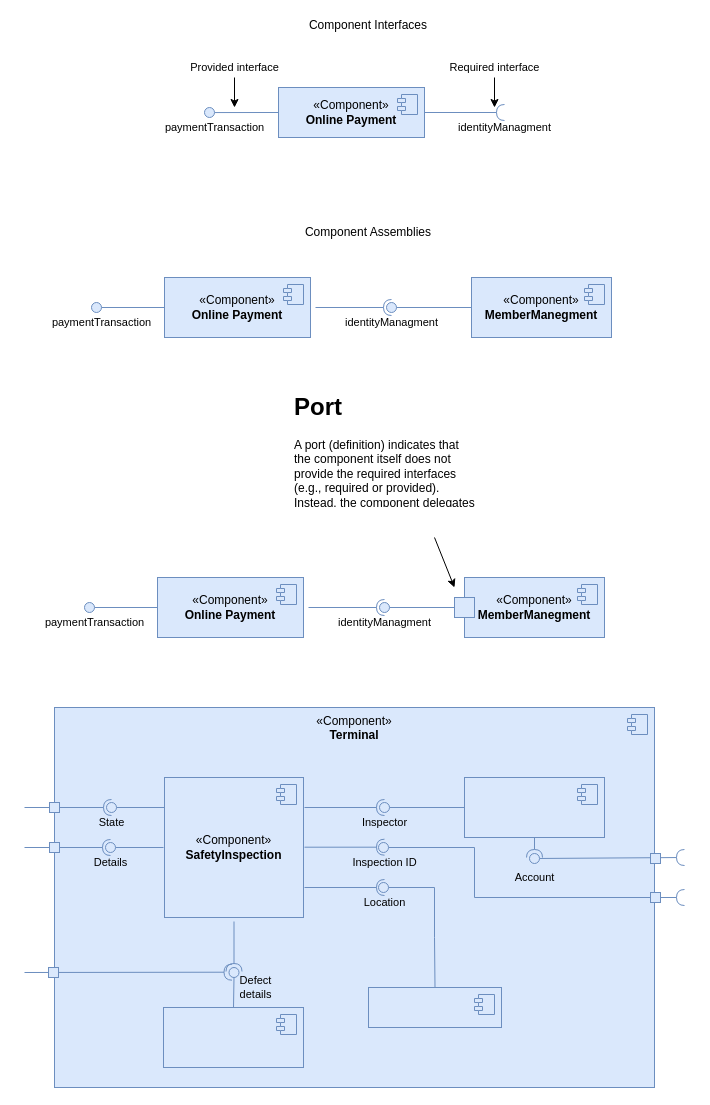
Image size: 710x1105. Some labels were removed from this diagram. Here are the shapes that lost their labels. From the top down, the centre of each, then its label:
pixel 534 807: «Component» Staff
pixel 435 1007: «Component» Map
pixel 233 1037: «Component» Defect
